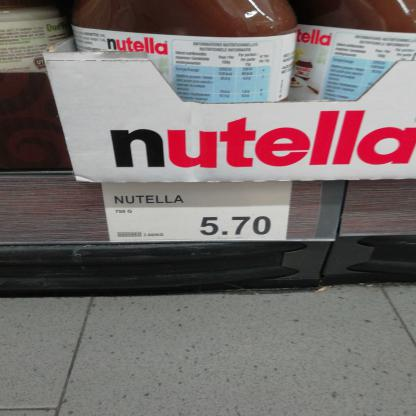prtg: (102, 182, 293, 243)
